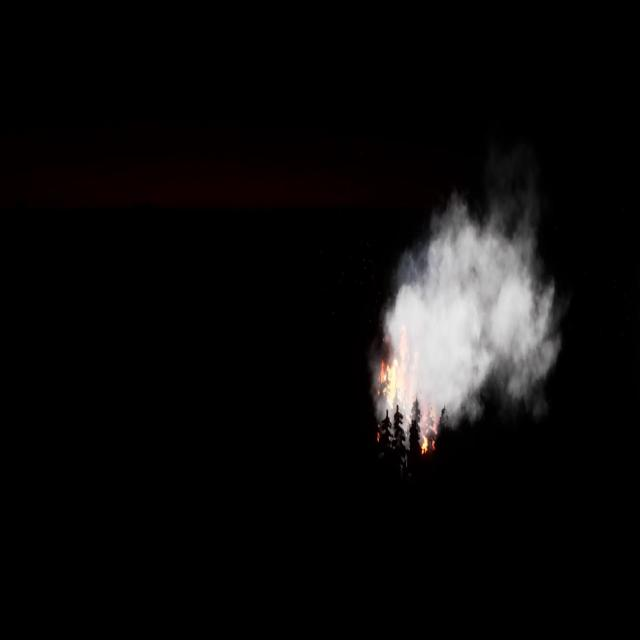fire: (370, 318, 432, 461)
smoke: (383, 205, 566, 430)
